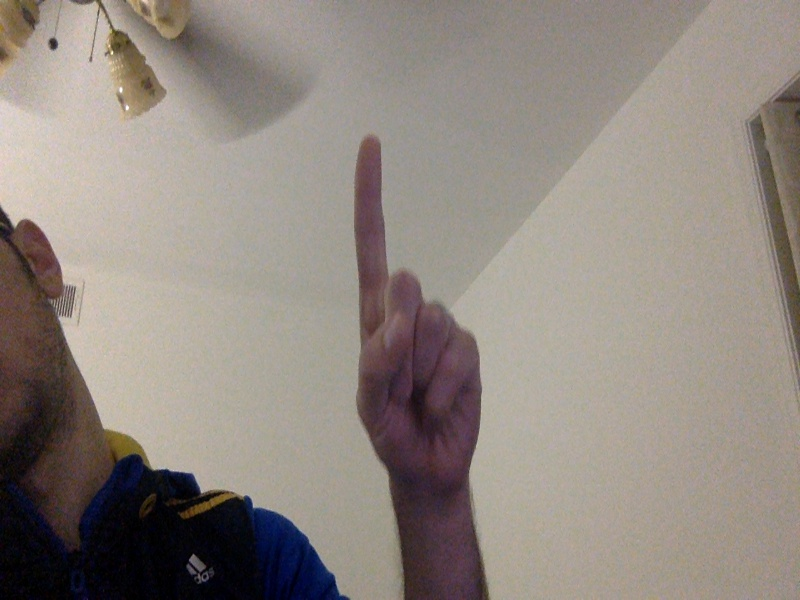1-hand: (354, 133, 483, 487)
